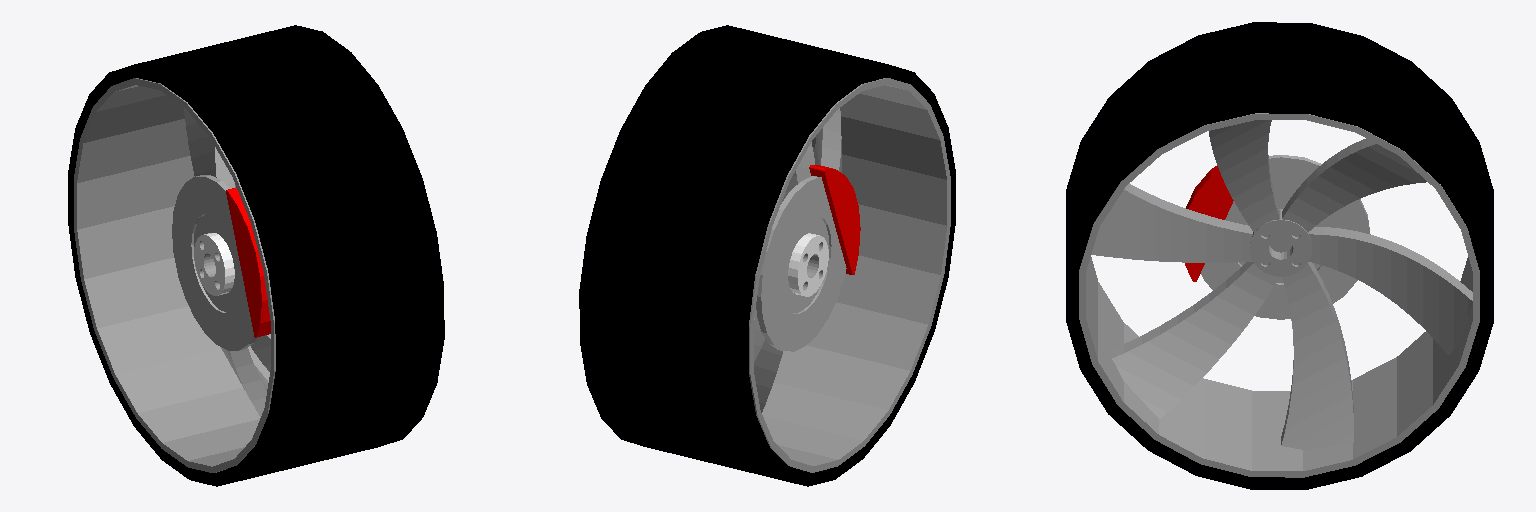
Rendered from rueda_mini85.obj.
3 views of the same model, side by side, from view 1: azimuth 30°, elevation 25°; view 2: azimuth 150°, elevation 25°; view 3: azimuth 270°, elevation 25° (orthographic).
Visible parts, largest first — view 1: Mesh10 Component_11_1 Model, Mesh9 Component_9_1 Model, Mesh8 Component_7_1 Component_8_1 Disco_de_freno1 Model, Mesh7 Component_6_1 Component_8_1 Disco_de_freno1 Model, Mesh3 Component_3_3 Component_4_2 Component_5_1 Model, Mesh6 Component_3_6 Component_4_3 Component_5_1 Model; view 2: Mesh10 Component_11_1 Model, Mesh9 Component_9_1 Model, Mesh8 Component_7_1 Component_8_1 Disco_de_freno1 Model, Mesh7 Component_6_1 Component_8_1 Disco_de_freno1 Model, Mesh6 Component_3_6 Component_4_3 Component_5_1 Model, Mesh2 Component_3_2 Component_4_1 Component_5_1 Model, Mesh5 Component_3_5 Component_4_3 Component_5_1 Model; view 3: Mesh10 Component_11_1 Model, Mesh9 Component_9_1 Model, Mesh4 Component_3_4 Component_4_2 Component_5_1 Model, Mesh6 Component_3_6 Component_4_3 Component_5_1 Model, Mesh1 Component_3_1 Component_4_1 Component_5_1 Model, Mesh2 Component_3_2 Component_4_1 Component_5_1 Model, Mesh8 Component_7_1 Component_8_1 Disco_de_freno1 Model, Mesh3 Component_3_3 Component_4_2 Component_5_1 Model, Mesh5 Component_3_5 Component_4_3 Component_5_1 Model, Mesh7 Component_6_1 Component_8_1 Disco_de_freno1 Model.
Boxes of the visible parts, <box> form: Mesh10 Component_11_1 Model: <box>68,25,444,486</box>; Mesh9 Component_9_1 Model: <box>74,78,275,472</box>; Mesh8 Component_7_1 Component_8_1 Disco_de_freno1 Model: <box>172,175,257,350</box>; Mesh7 Component_6_1 Component_8_1 Disco_de_freno1 Model: <box>226,187,270,337</box>; Mesh3 Component_3_3 Component_4_2 Component_5_1 Model: <box>184,108,234,188</box>; Mesh6 Component_3_6 Component_4_3 Component_5_1 Model: <box>221,347,268,416</box>; Mesh10 Component_11_1 Model: <box>579,25,955,486</box>; Mesh9 Component_9_1 Model: <box>749,78,950,472</box>; Mesh8 Component_7_1 Component_8_1 Disco_de_freno1 Model: <box>756,176,846,351</box>; Mesh7 Component_6_1 Component_8_1 Disco_de_freno1 Model: <box>809,165,860,274</box>; Mesh6 Component_3_6 Component_4_3 Component_5_1 Model: <box>754,315,782,412</box>; Mesh2 Component_3_2 Component_4_1 Component_5_1 Model: <box>815,108,841,172</box>; Mesh5 Component_3_5 Component_4_3 Component_5_1 Model: <box>783,142,814,200</box>; Mesh10 Component_11_1 Model: <box>1066,22,1493,489</box>; Mesh9 Component_9_1 Model: <box>1079,113,1479,477</box>; Mesh4 Component_3_4 Component_4_2 Component_5_1 Model: <box>1112,262,1278,418</box>; Mesh6 Component_3_6 Component_4_3 Component_5_1 Model: <box>1281,262,1353,449</box>; Mesh1 Component_3_1 Component_4_1 Component_5_1 Model: <box>1309,227,1472,355</box>; Mesh2 Component_3_2 Component_4_1 Component_5_1 Model: <box>1091,183,1252,262</box>; Mesh8 Component_7_1 Component_8_1 Disco_de_freno1 Model: <box>1201,155,1370,319</box>; Mesh3 Component_3_3 Component_4_2 Component_5_1 Model: <box>1282,138,1426,231</box>; Mesh5 Component_3_5 Component_4_3 Component_5_1 Model: <box>1209,120,1279,232</box>; Mesh7 Component_6_1 Component_8_1 Disco_de_freno1 Model: <box>1185,166,1233,281</box>.
Bounding box in the file's own units: 2.71 × 6.11 × 6.11.